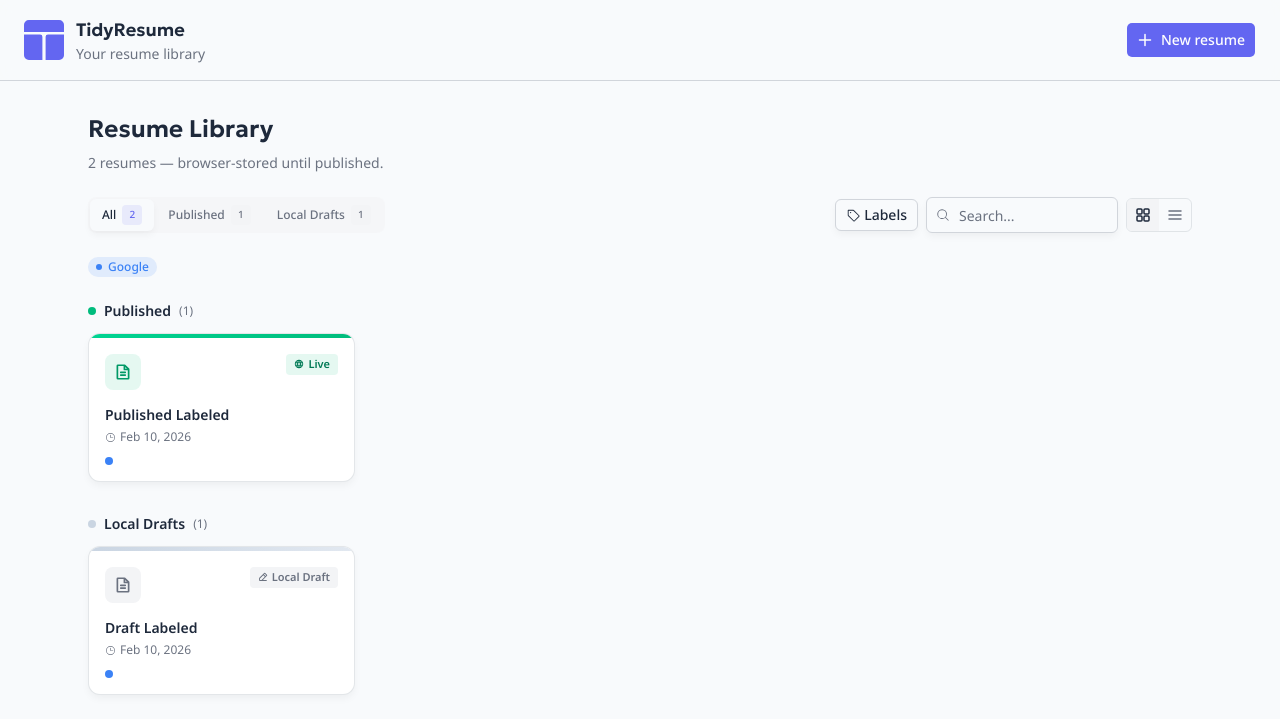
Test: ResumeLibrary (labels) › combines label filter with status filter
This screenshot has width=1280, height=719.
Click the button "Google" at (122, 267), box top-left (88, 257), bottom-right (157, 277)
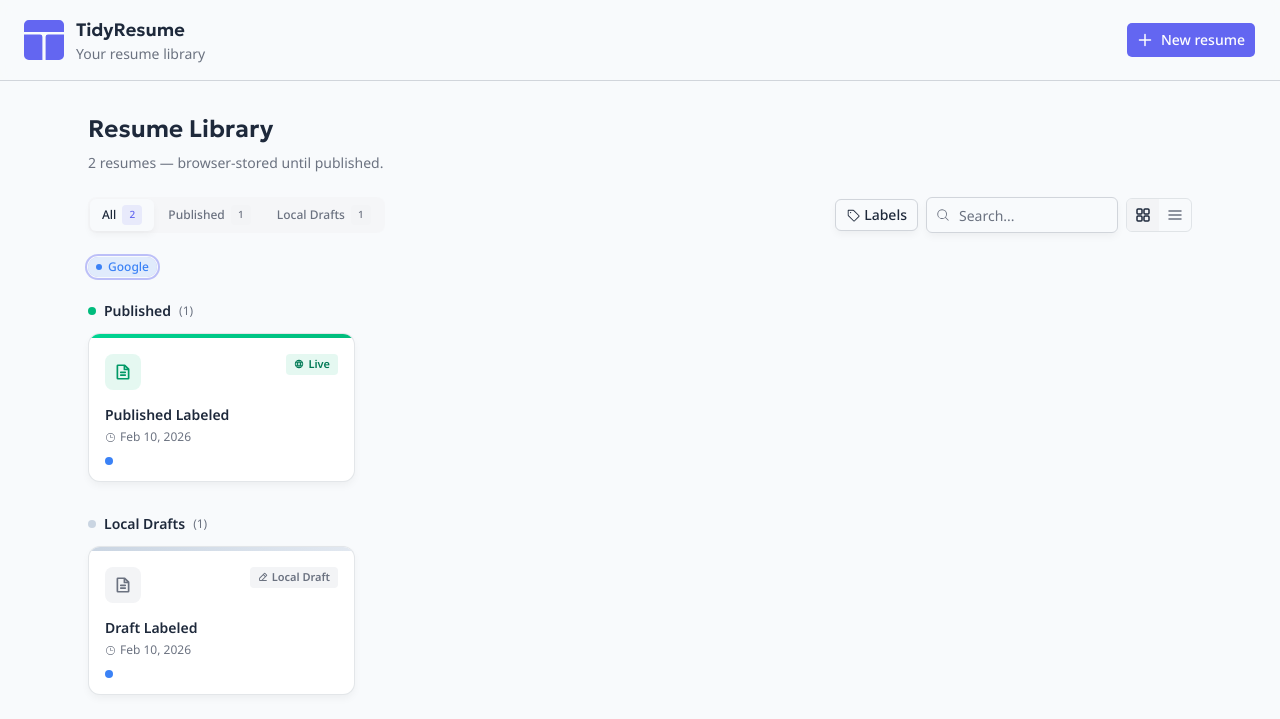
Expected: the button "Published Labeled" is shown, top-left (105, 405), bottom-right (338, 425)
Expected: the button "Draft Labeled" is shown, top-left (105, 618), bottom-right (338, 638)
Click the button "Local Drafts 1" at (324, 215), box top-left (265, 199), bottom-right (383, 231)
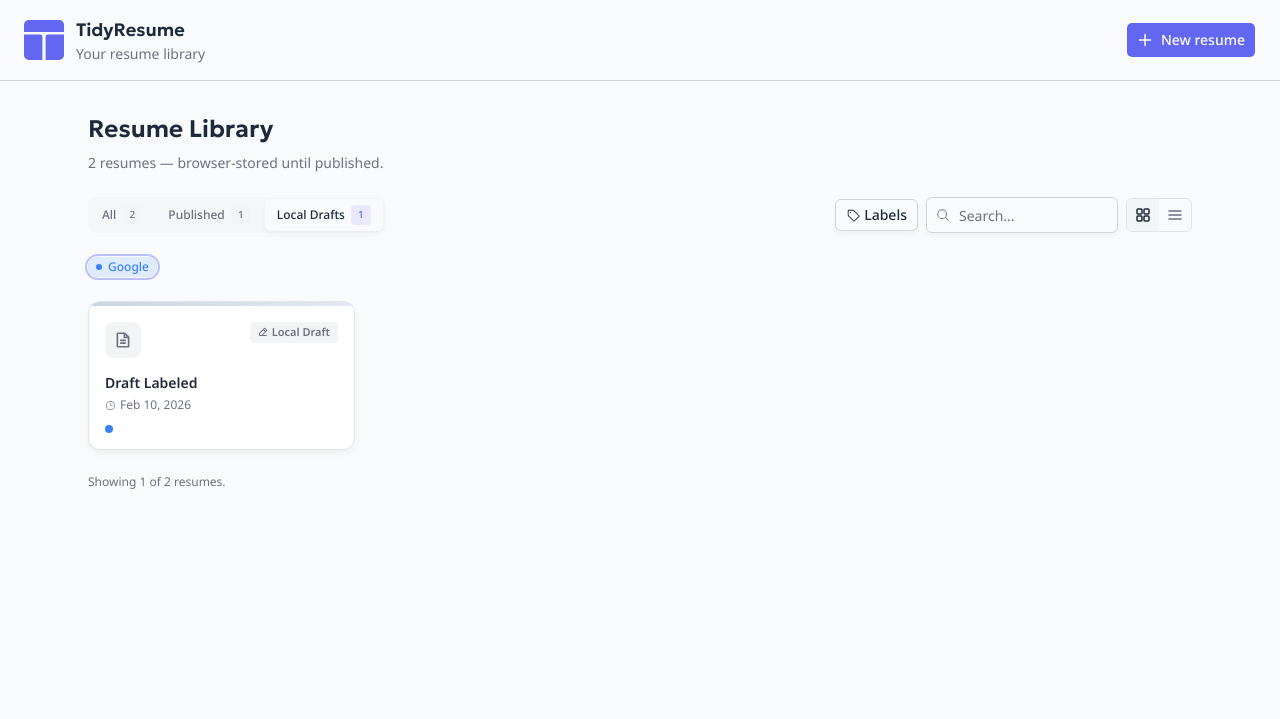
Expected: the button "Draft Labeled" is shown, top-left (105, 373), bottom-right (338, 393)
Expected: the button "Published Labeled" is gone
